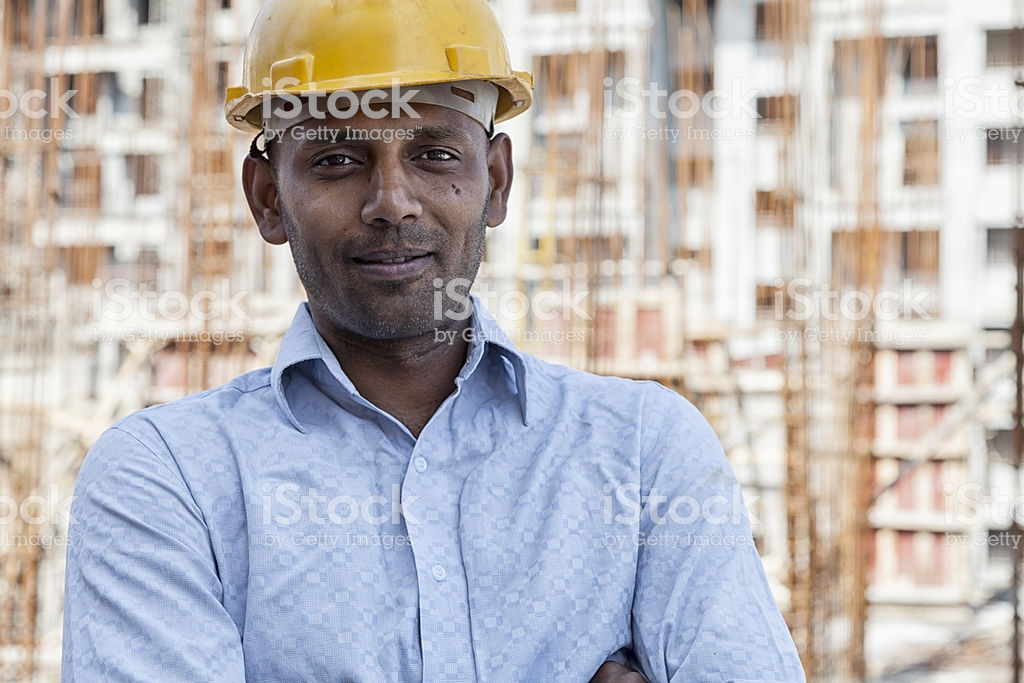NoJacket: (65, 1, 795, 683)
